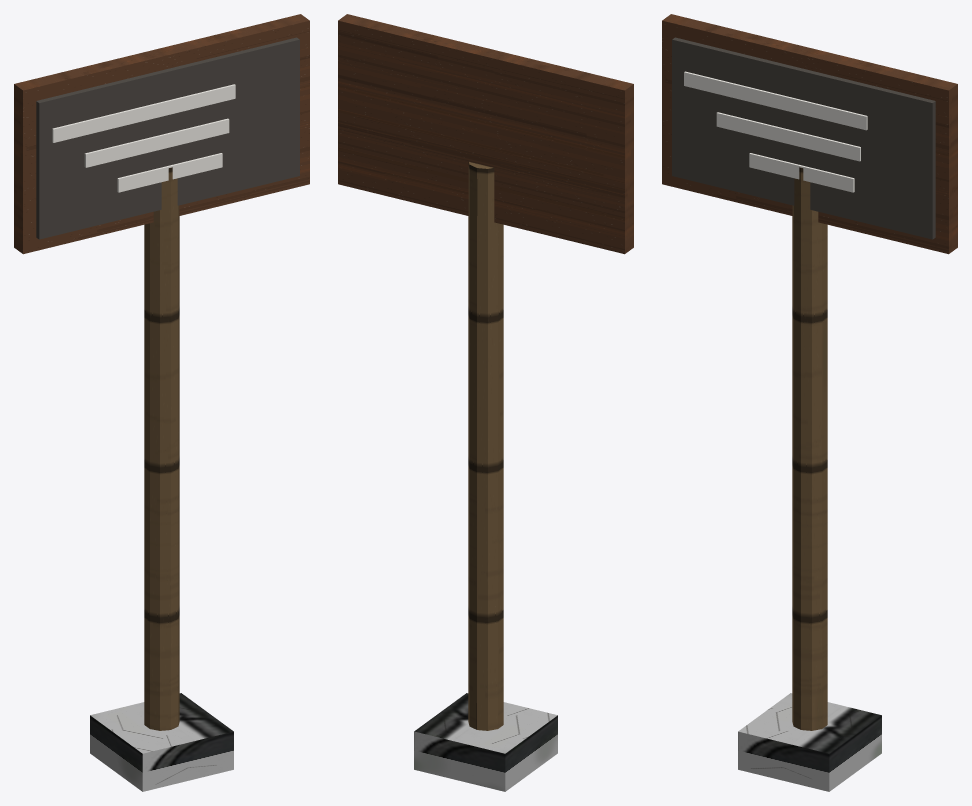
File: duong-ray-bien-bao-chu-mo.glb
The picture shows the model from 3 angles, left to right: view 1: azimuth 30°, elevation 25°; view 2: azimuth 150°, elevation 25°; view 3: azimuth 330°, elevation 25°; orthographic projection.
Visible parts, largest first — view 1: duong-ray-bien-bao-chu-mo; view 2: duong-ray-bien-bao-chu-mo; view 3: duong-ray-bien-bao-chu-mo.
Boxes of the visible parts, x1=… form: duong-ray-bien-bao-chu-mo: x1=14, y1=14, x2=309, y2=791; duong-ray-bien-bao-chu-mo: x1=338, y1=14, x2=633, y2=791; duong-ray-bien-bao-chu-mo: x1=662, y1=14, x2=957, y2=791.
Bounding box in the file's own units: 1.1 × 2.6 × 0.35.
5 materials, 3 textured.
